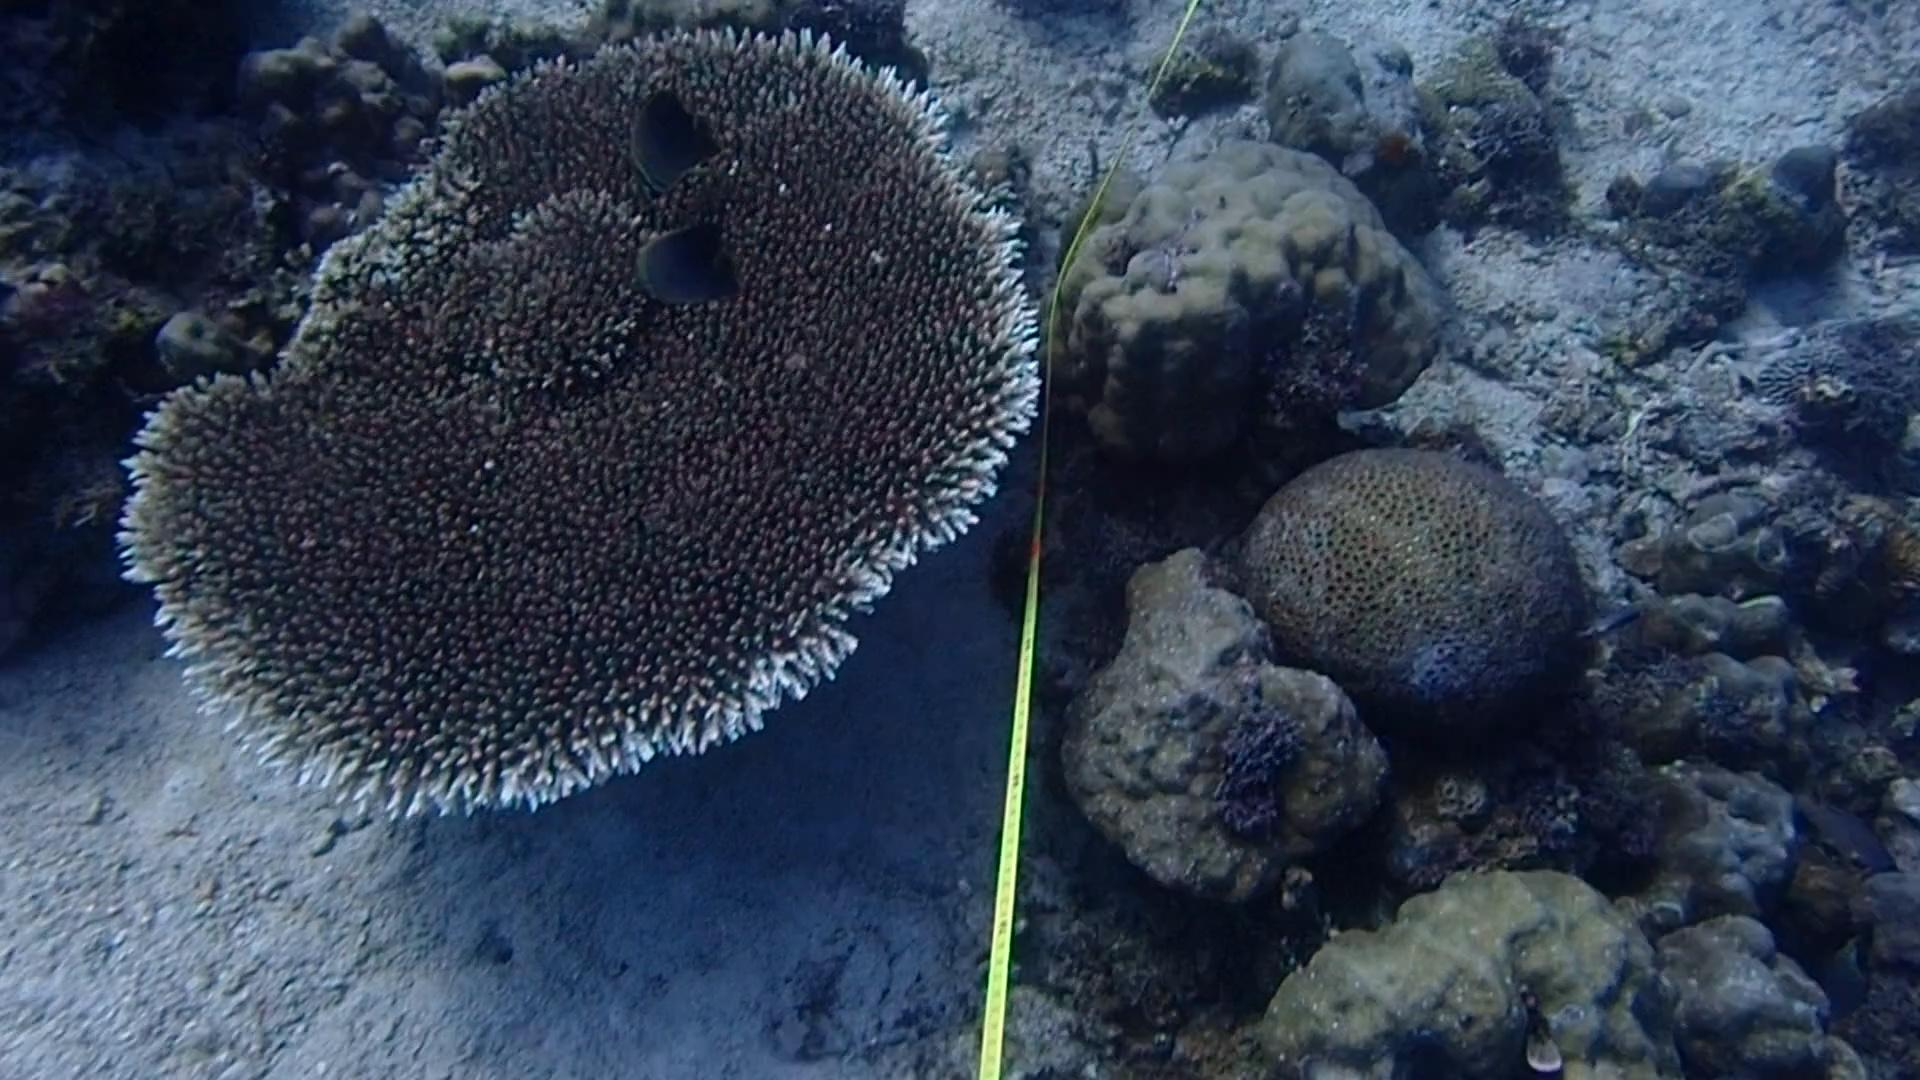Dark Blue Dory: (621, 214, 748, 319), (609, 74, 719, 187)
Light Fish: (1575, 595, 1647, 655)
